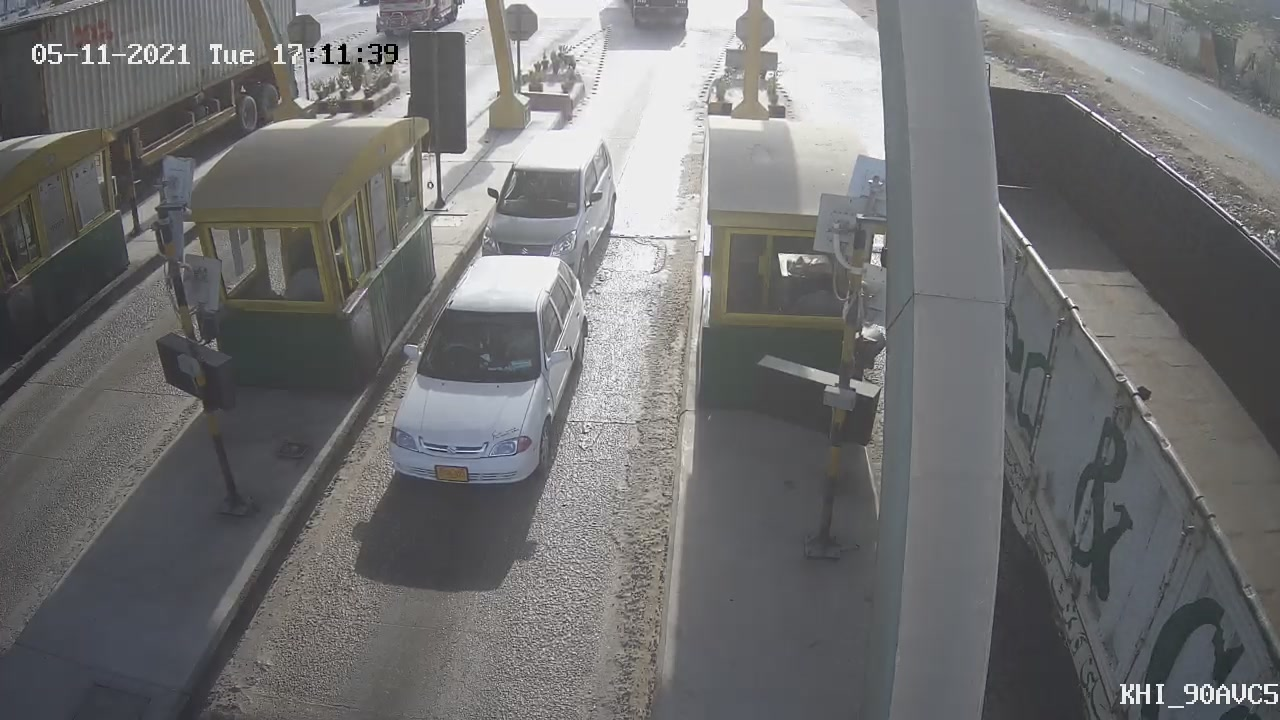F1: (368, 234, 612, 508), (468, 120, 638, 303)
